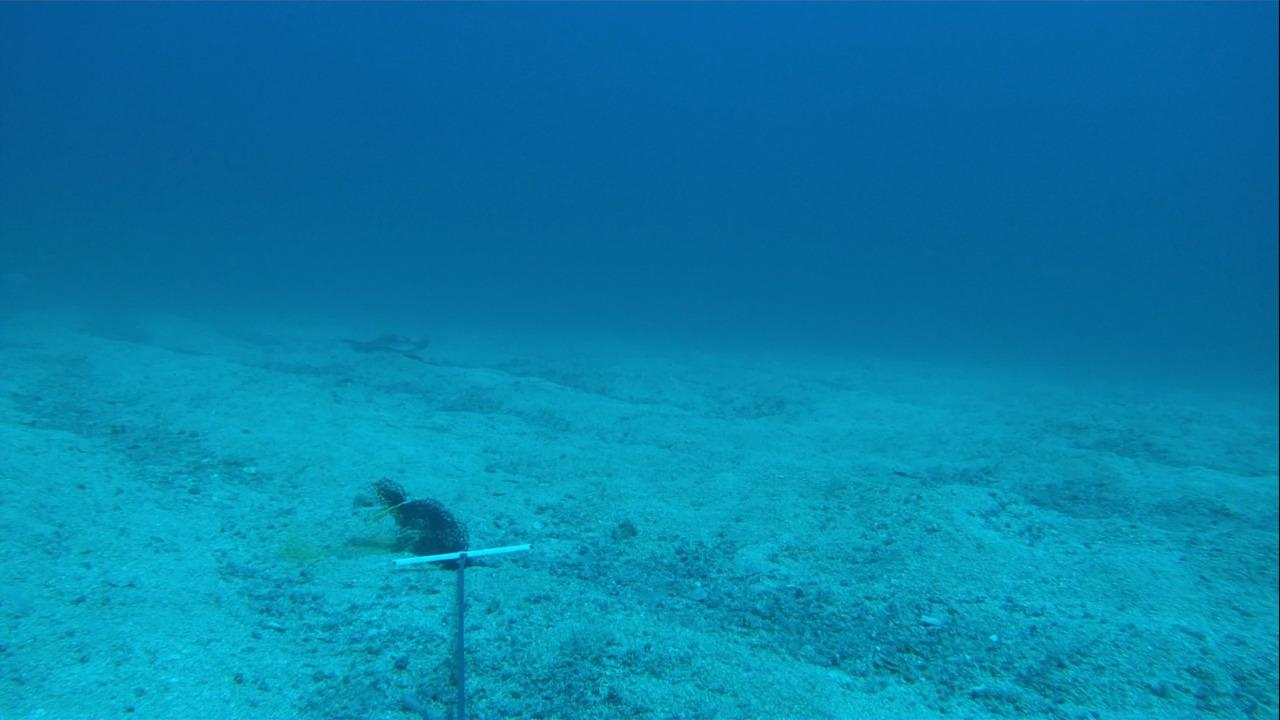myliobatis: (299, 316, 440, 361)
